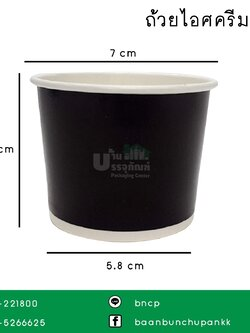PaperCup: (29, 68, 220, 242)
